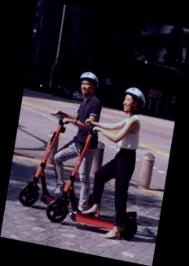helmet: (43, 72, 160, 244), (18, 62, 121, 219)
